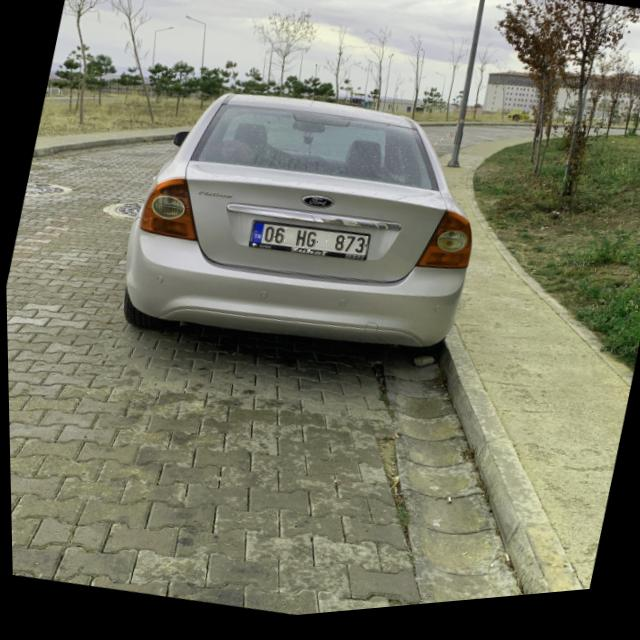license_plate: (247, 217, 369, 272)
